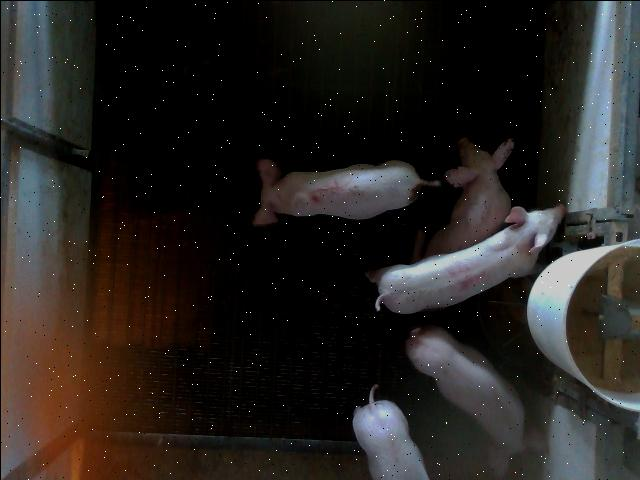pig-4: (366, 204, 565, 312)
pig-5: (251, 158, 440, 224)
